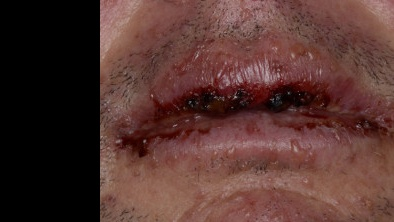SJS-TEN: (94, 0, 394, 222)
